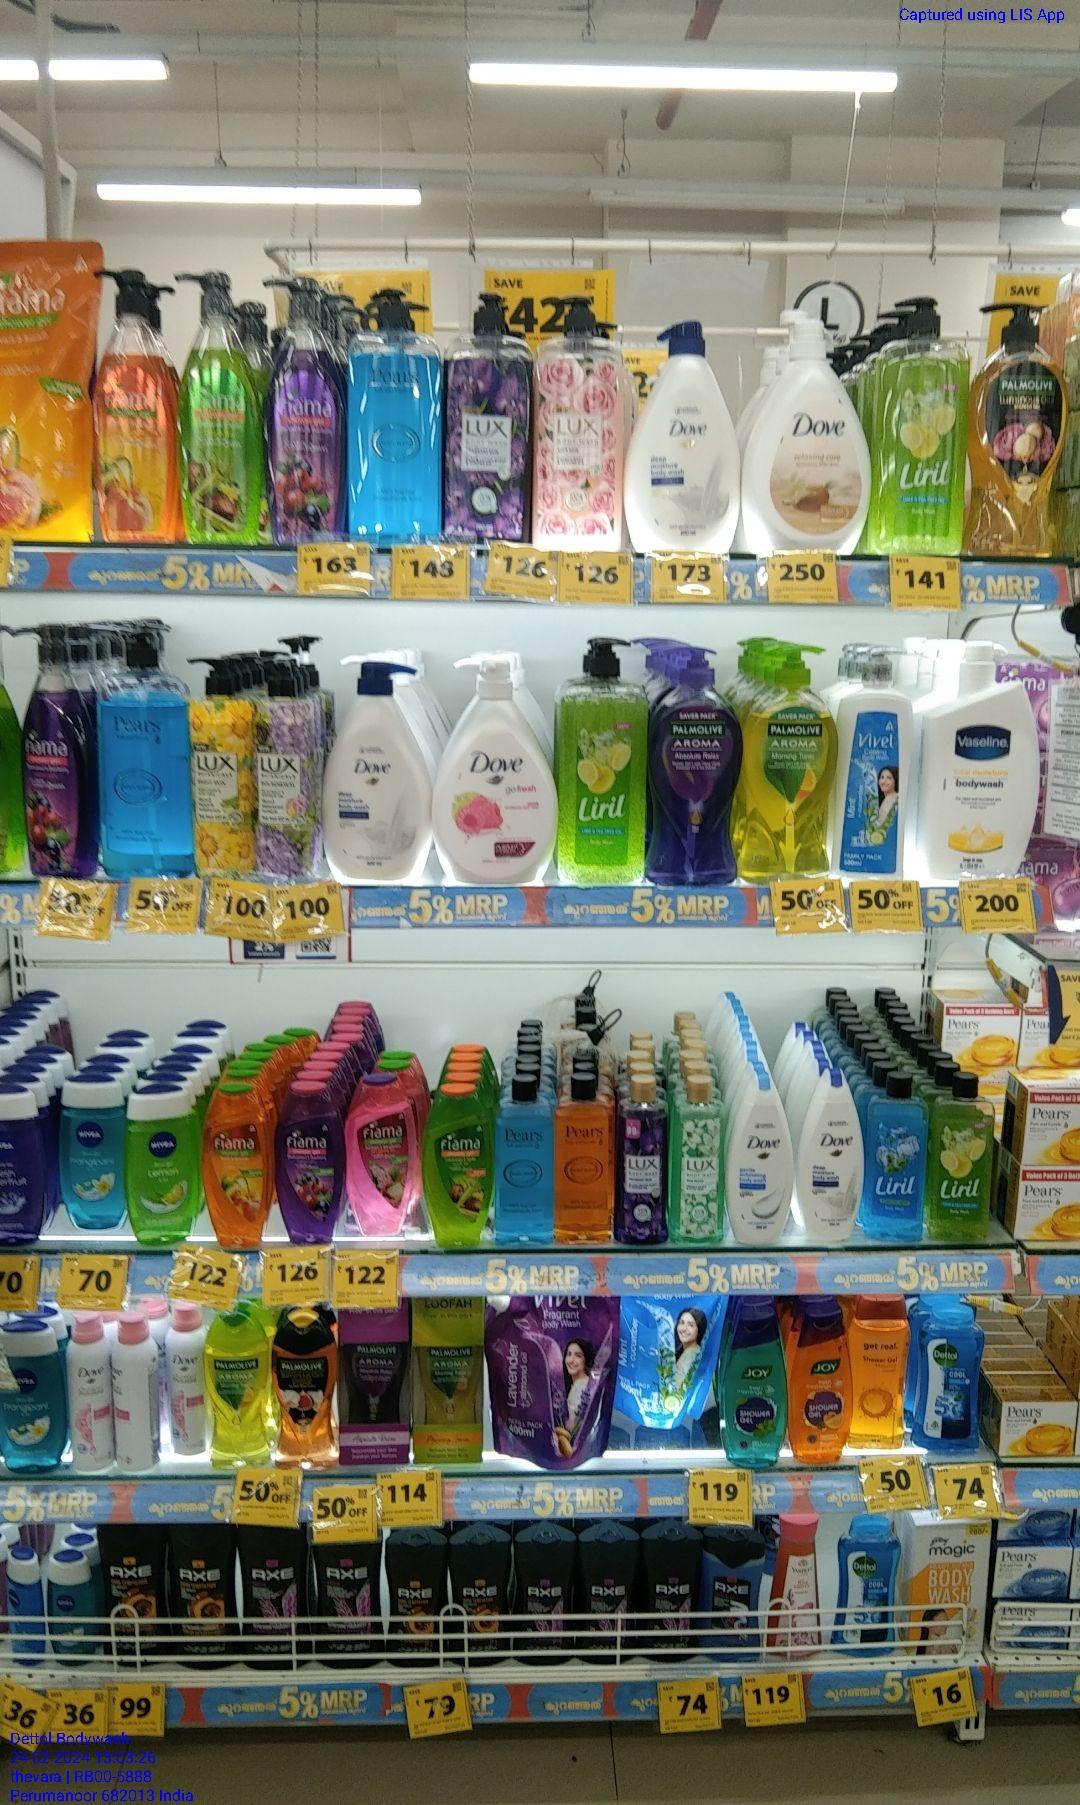Dettol_Bodywash_Cool: (919, 1292, 977, 1451), (834, 1509, 891, 1655)
Dove_Deep_Moisture_Body_Wash_250ML: (798, 1071, 863, 1242)
Dove_Gentle_Exfoliating_Body_Wash_250ML: (729, 1079, 793, 1243)
Fiama_Shower_Gel_Lemongrass_and_Jojoba_250ML: (420, 1080, 491, 1243)
Fiama_Shower_Gel_Patchouli_and_Macadamia_250ML: (351, 1071, 413, 1238)
Fiama_Shower_Gel_Peach_and_Avocado_250ML: (199, 1082, 270, 1260)
Get_Real_Shower_Gel_Moisturising_Glycerin_300ML: (851, 1295, 903, 1450)
Joy_Shower_Gel_Mandarin_and_Lemongrass_250ML: (789, 1293, 849, 1463)
Joy_Shower_Gel_Mint_and_Eucalyptus_250ML: (724, 1305, 783, 1467)
Liril_Cooling_Mint_Body_Wash_250ML: (867, 1073, 922, 1246)
Liril_Lime_and_Tea_Tree_Oil_Body_Wash_250ML: (932, 1068, 994, 1247)
Lux_Black_Orchid_Scent_and_Juniper_Oil_Body_Wash_245ML: (618, 1067, 669, 1243)
Lux_Body_Wash_Skin_Detox_Freesia_Scent_and_Alove_Vera_245ML: (674, 1067, 723, 1244)
Nivea_Shower_Gel_Frangipani_and_Oil_250ML: (1, 1323, 62, 1476), (60, 1090, 118, 1233)
Nivea_Shower_Gel_Lemon_and_Oil_250ML: (125, 1088, 197, 1248)
Palmolive_Aroma_Morning_Tonic_Shower_Gel_250ML: (203, 1310, 273, 1469)
Palmolive_Luminous_Oils_With_White_Orchid_Shower_Gel_250ML: (278, 1315, 339, 1468)
Pears_Pure_Glycerin_and_Mint_Extracts_Body_Wash_250ML: (498, 1077, 554, 1246)
